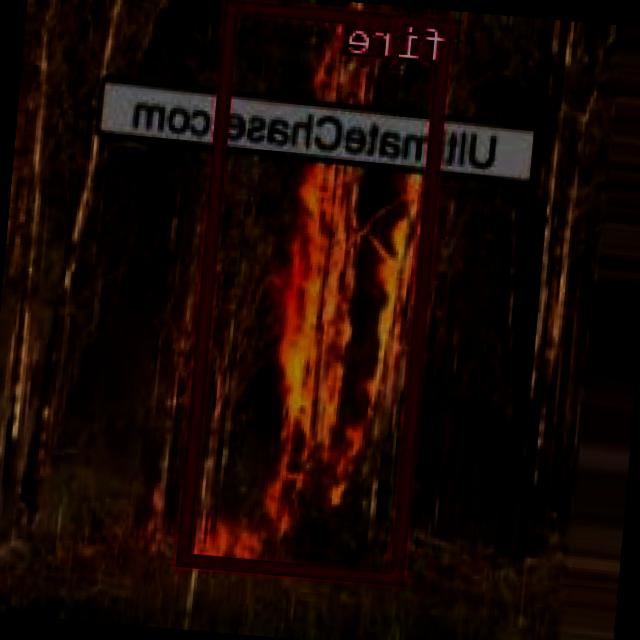fire: (179, 0, 454, 583)
